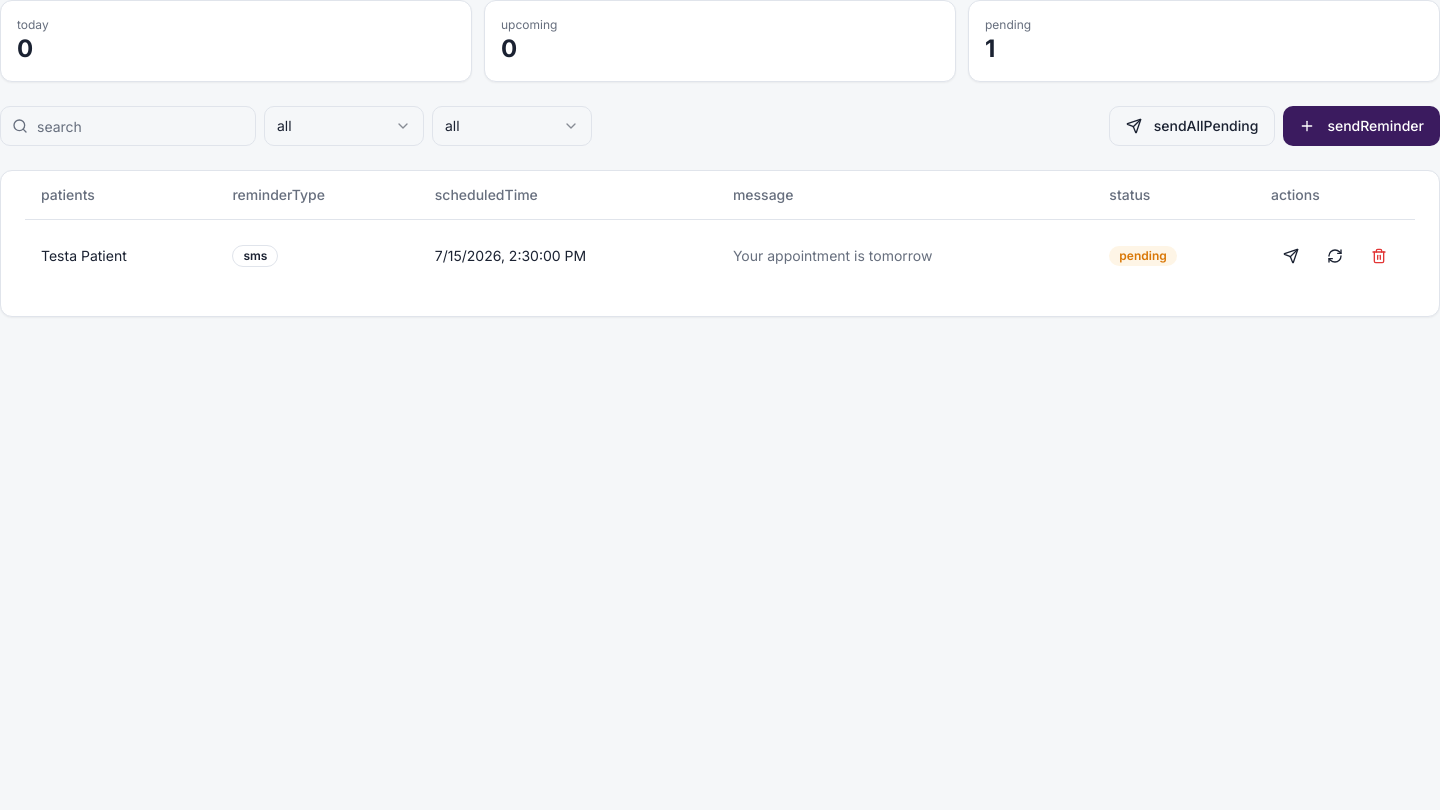
Test case: reschedule dialog › Cancel writes nothing
Click the button named "Reschedule": (1335, 256) [1315,236,1355,276]
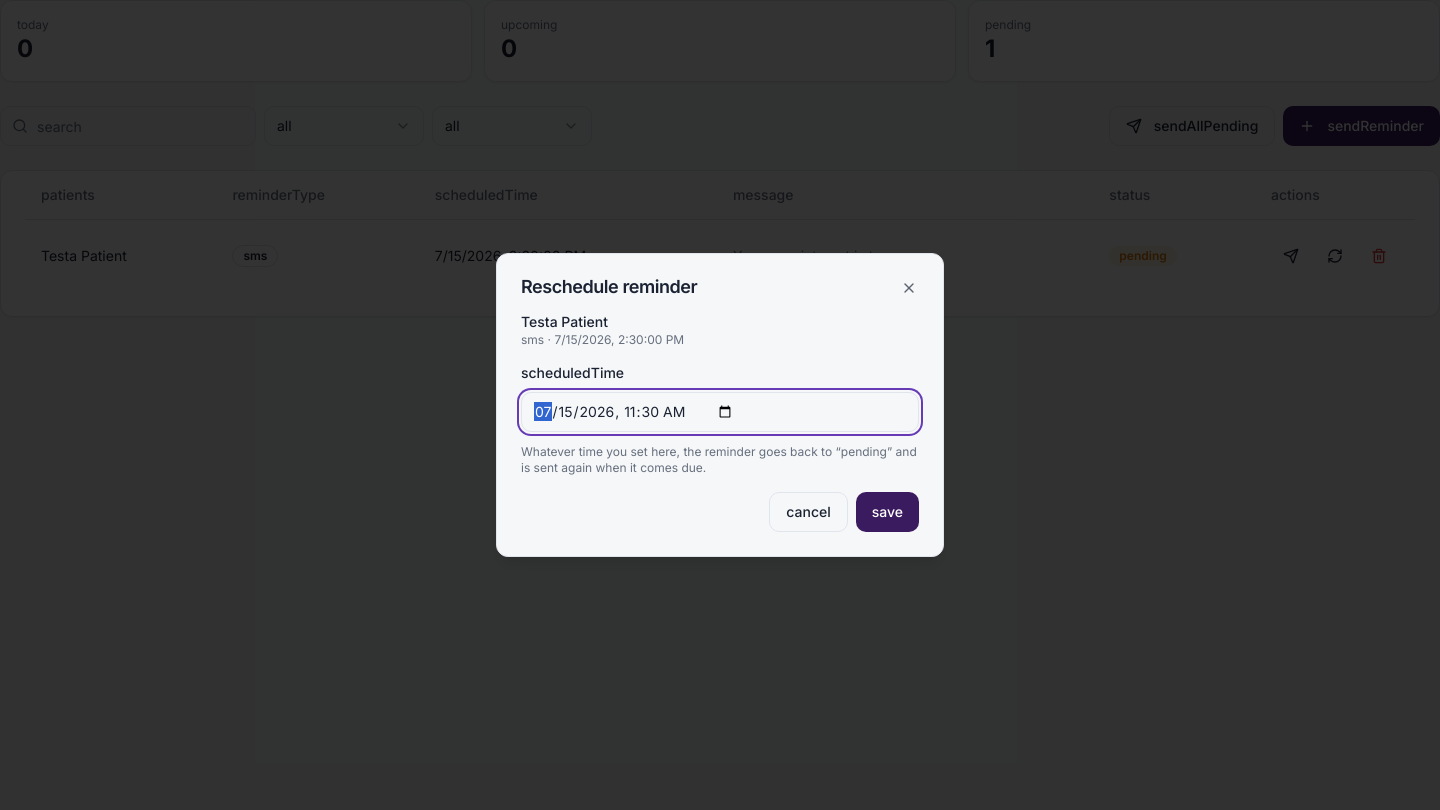
Check: the dialog is shown, box [496,253,944,557]
Replace the text in the field labelled "scheduledTime" with "2026-07-20T09:00": (720, 412) [521,392,919,432]
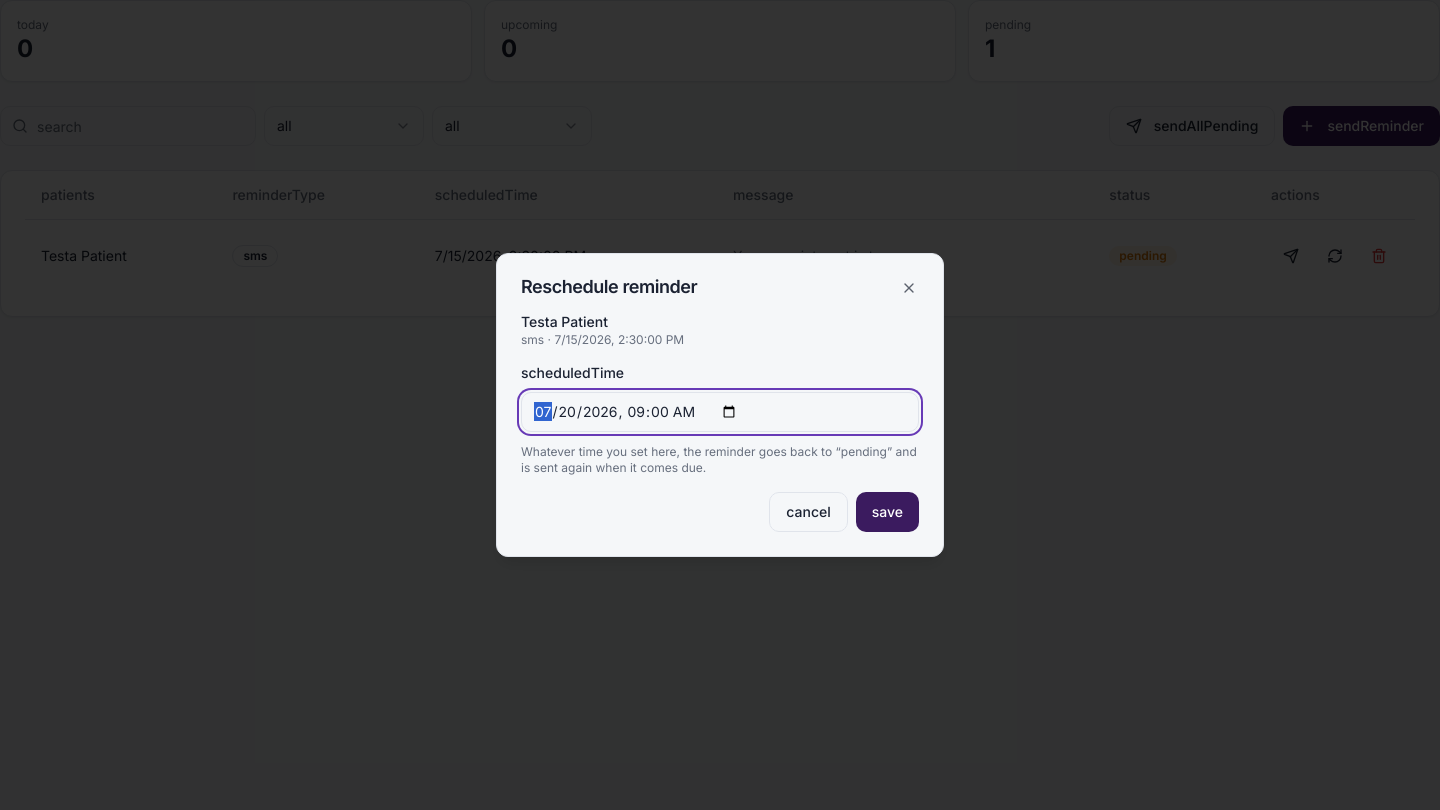
Click the button "cancel": (808, 512) [769,492,848,532]
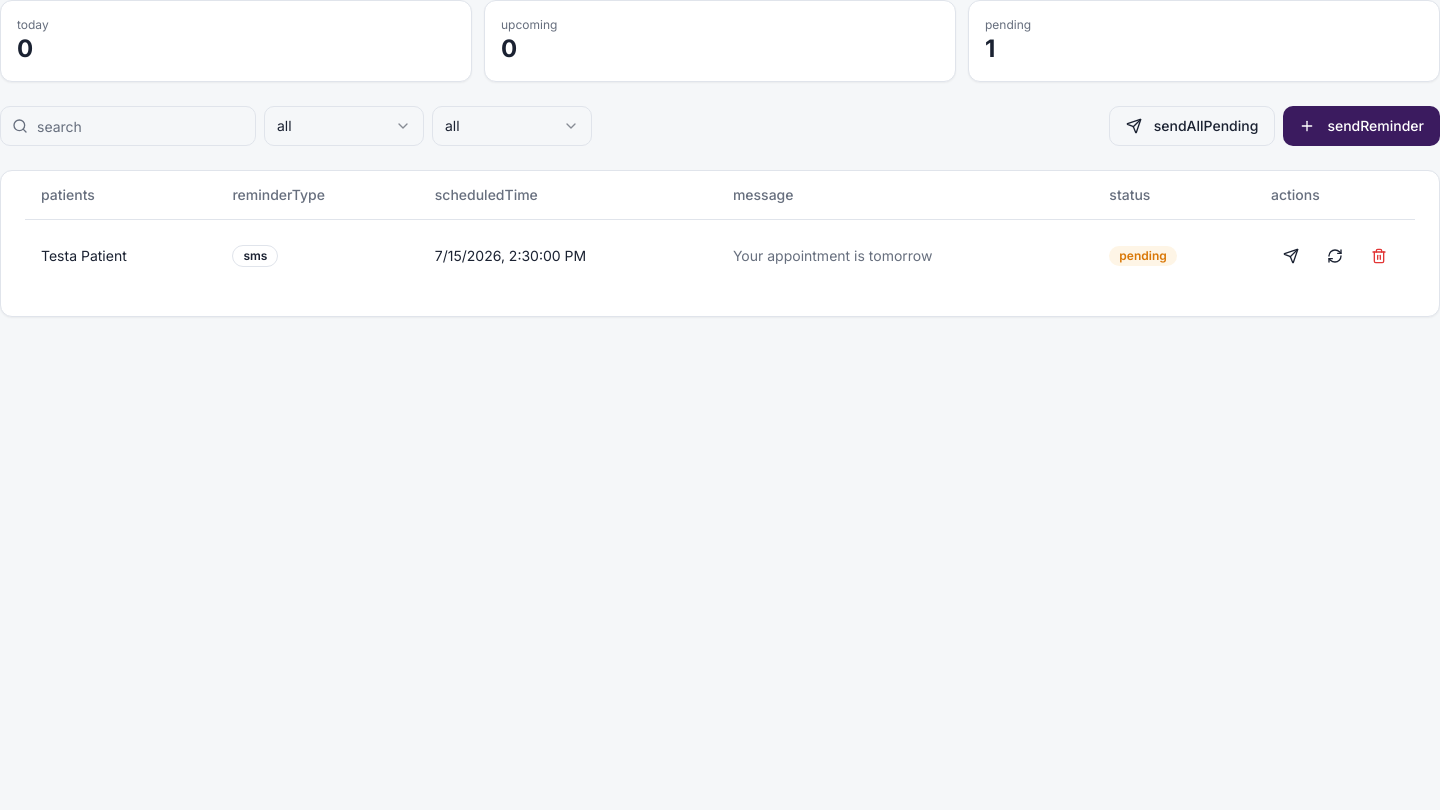
Check: the dialog is gone
